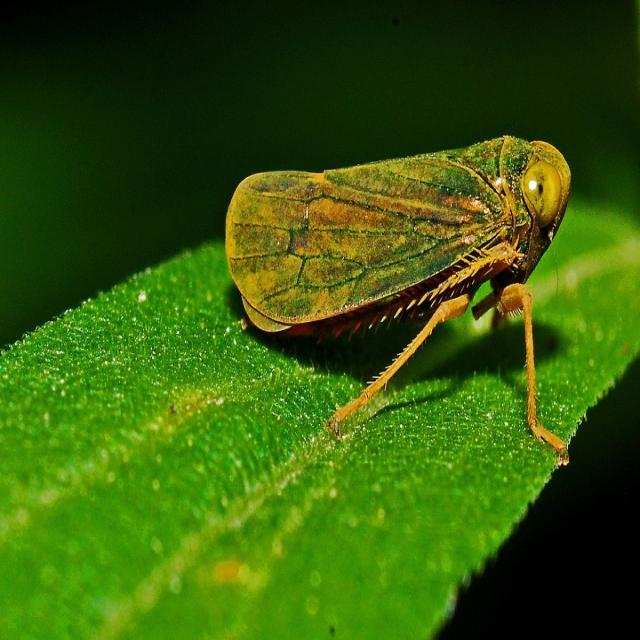Yechan: (213, 130, 596, 372)
